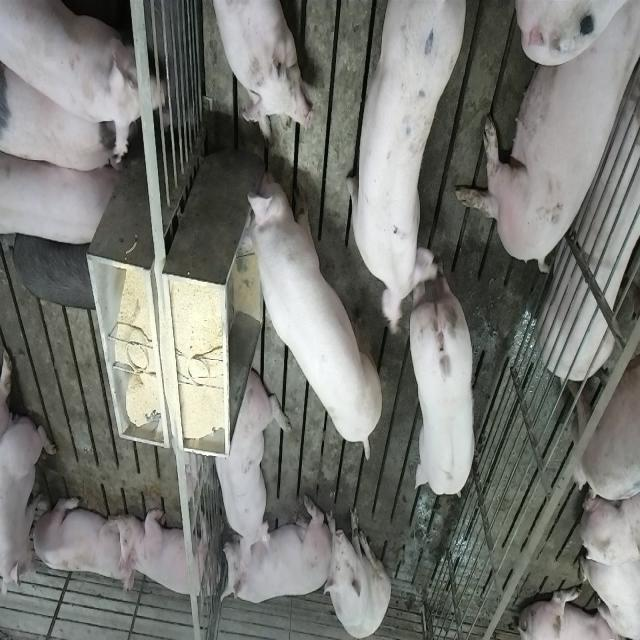Feeding: (231, 166, 379, 472)
Lateral_lying: (452, 4, 636, 277), (538, 60, 640, 380)
Sitting: (322, 502, 391, 637)
Standing: (344, 6, 468, 342), (0, 0, 164, 158), (405, 266, 475, 506), (2, 52, 128, 180), (568, 286, 640, 500), (2, 142, 122, 248)
Sternal_lying: (206, 0, 308, 138), (210, 366, 284, 555), (220, 502, 328, 612), (3, 412, 55, 604), (31, 491, 131, 589), (120, 504, 214, 602)
